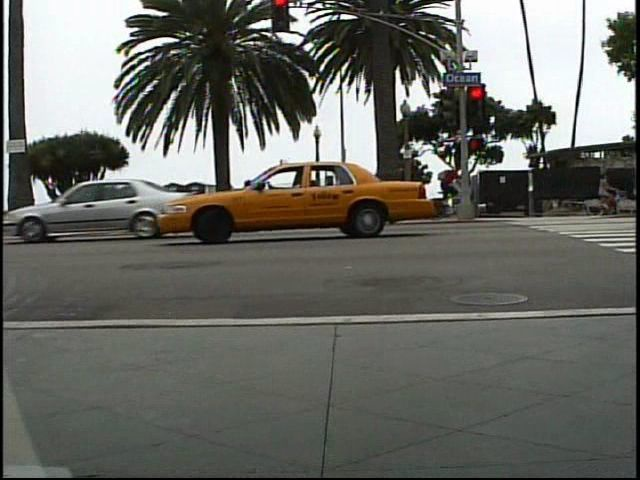person: (434, 157, 468, 215), (588, 167, 620, 215)
